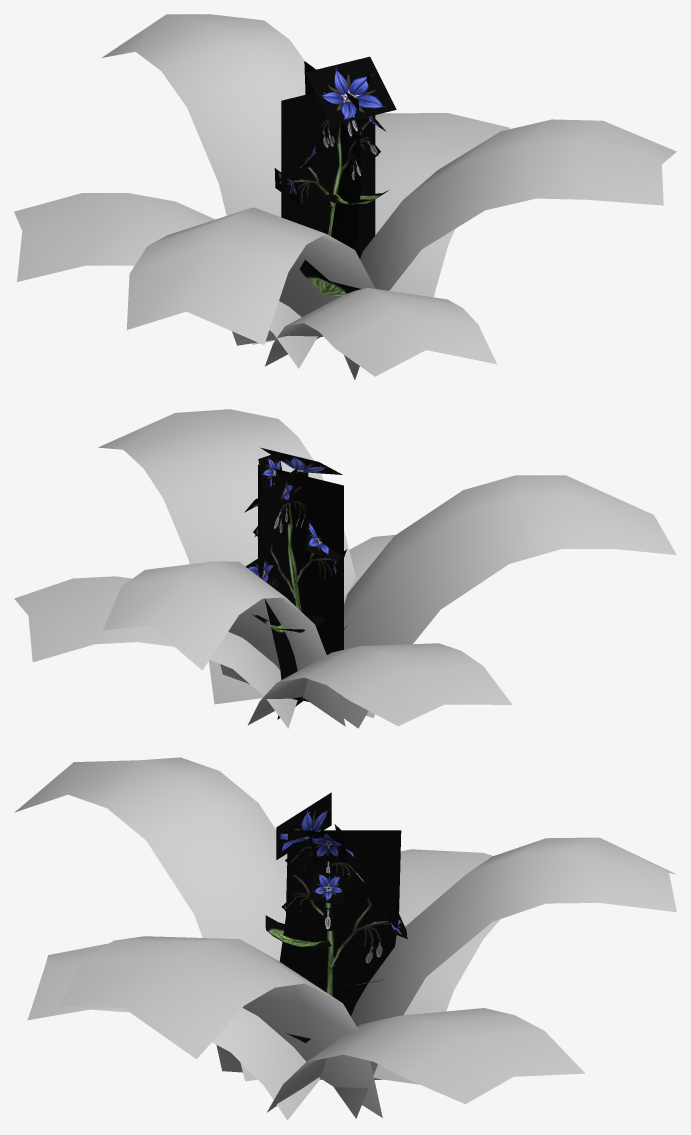
The model's file is TO_BorageAndWoolPlant.fbx.
3 views of the same model, one above another, from view 1: azimuth 30°, elevation 25°; view 2: azimuth 150°, elevation 25°; view 3: azimuth 270°, elevation 25° (orthographic). The views are drawn at different scales.
Parts seen in each view (by area): view 1: TO_WoolPlant, TO_Borage; view 2: TO_WoolPlant, TO_Borage; view 3: TO_WoolPlant, TO_Borage.
Boxes of the visible parts, <box> form: TO_WoolPlant: <box>14,14,676,379</box>; TO_Borage: <box>274,56,396,336</box>; TO_WoolPlant: <box>14,409,676,728</box>; TO_Borage: <box>244,447,347,719</box>; TO_WoolPlant: <box>14,757,676,1120</box>; TO_Borage: <box>265,792,408,1079</box>.
Bounding box in the file's own units: 185 × 82.08 × 172.
